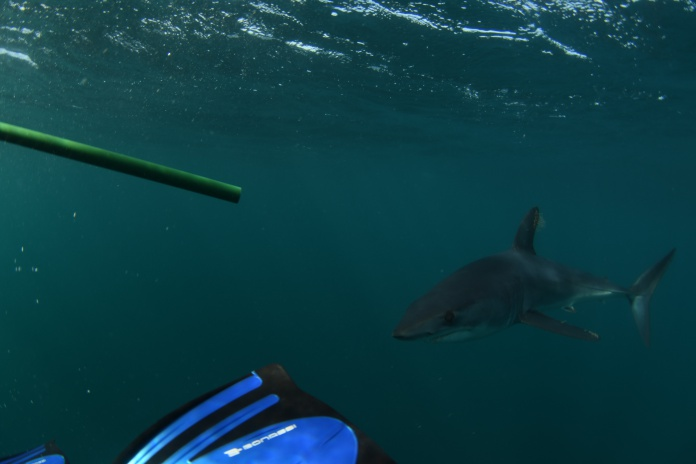Mako: (381, 199, 682, 365)
